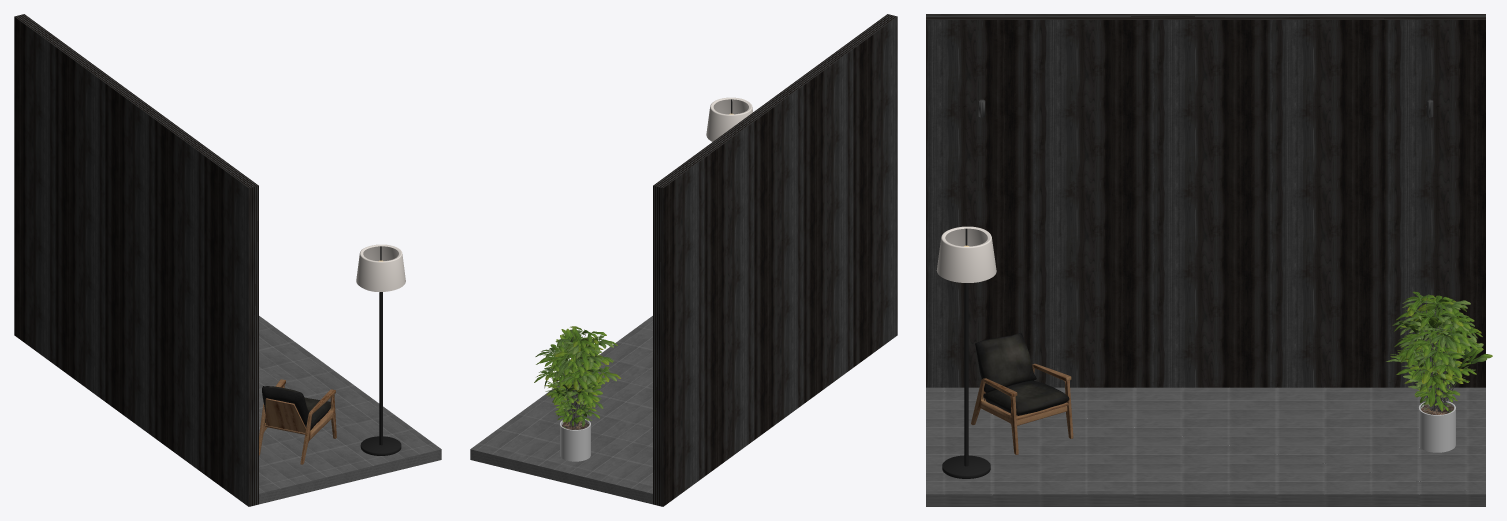
File: blackwoodwall-v2.glb
The picture shows the model from 3 angles, left to right: view 1: azimuth 30°, elevation 25°; view 2: azimuth 150°, elevation 25°; view 3: azimuth 270°, elevation 25°; orthographic projection. The views are drawn at different scales.
Visible parts, largest first — view 1: Cube.001, Cube, modern_arm_chair_01, Spot lamp-01.001, FloorLamp_Stem; view 2: Cube.001, Cube, pln05, Spot lamp-01.001, pln03; view 3: Cube.001, Cube, pln05, modern_arm_chair_01, Spot lamp-01.001, FloorLamp_Stem, pln03.
Part boxes in pixels (bbox=[...]): Cube.001: bbox=[14, 14, 258, 506]; Cube: bbox=[259, 316, 441, 504]; modern_arm_chair_01: bbox=[259, 379, 336, 464]; Spot lamp-01.001: bbox=[356, 244, 405, 292]; FloorLamp_Stem: bbox=[360, 246, 401, 455]; Cube.001: bbox=[653, 14, 897, 506]; Cube: bbox=[470, 316, 652, 504]; pln05: bbox=[534, 326, 620, 428]; Spot lamp-01.001: bbox=[706, 97, 752, 141]; pln03: bbox=[560, 419, 590, 461]; Cube.001: bbox=[926, 14, 1485, 387]; Cube: bbox=[926, 387, 1485, 506]; pln05: bbox=[1386, 291, 1492, 412]; modern_arm_chair_01: bbox=[971, 332, 1073, 454]; Spot lamp-01.001: bbox=[936, 99, 1433, 282]; FloorLamp_Stem: bbox=[942, 228, 990, 478]; pln03: bbox=[1418, 400, 1455, 452].
Bounding box in the file's own units: 3.8 × 6 × 8.1.
16 materials, 15 textured.
